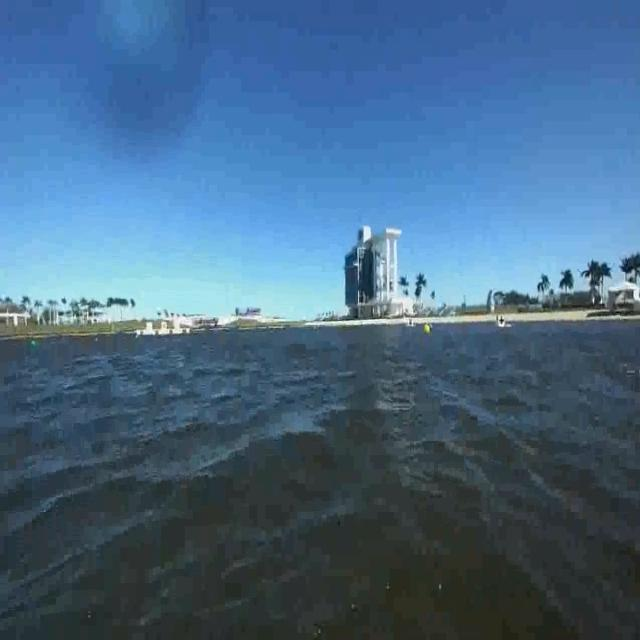yellow-buoy: (424, 322, 432, 335)
